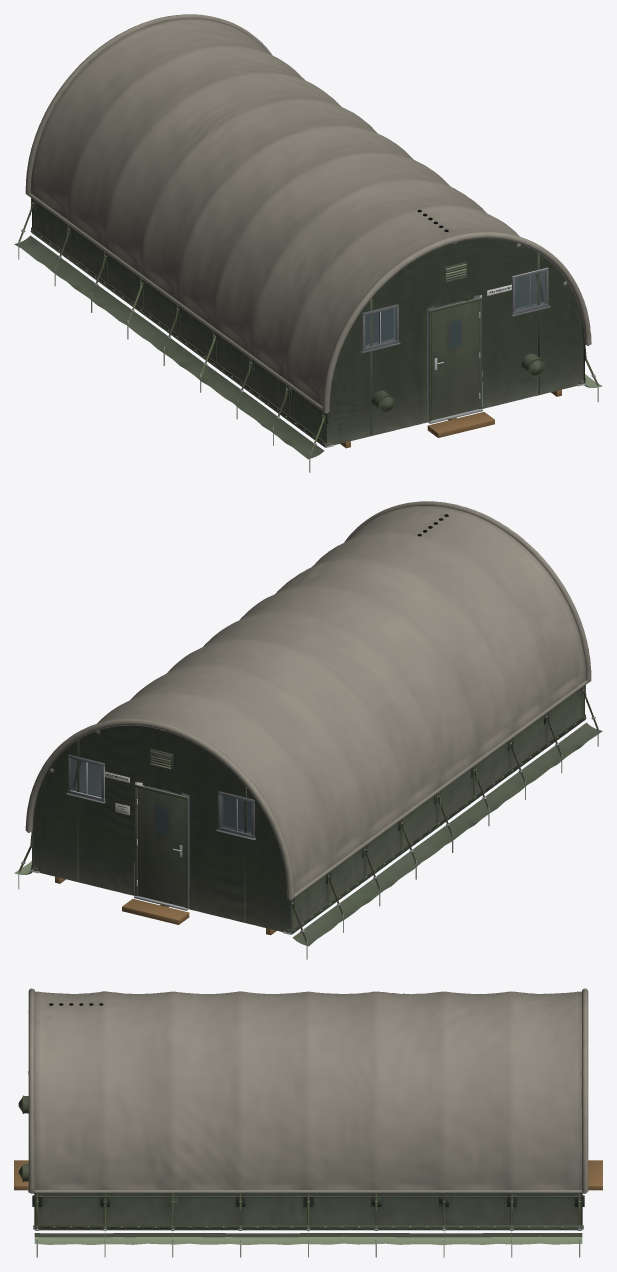
Rendered from series4-ar.glb.
3 renders of one model, top to bottom at view 1: azimuth 30°, elevation 25°; view 2: azimuth 150°, elevation 25°; view 3: azimuth 270°, elevation 25°, orthographic. The views are drawn at different scales.
Visible parts, largest first — view 1: SERIES4_thermal_cap, SERIES4_shelter, SERIES4_floor; view 2: SERIES4_thermal_cap, SERIES4_shelter, SERIES4_floor; view 3: SERIES4_thermal_cap, SERIES4_shelter, SERIES4_floor.
Boxes of the visible parts, x1,y1,x2,y2 form: SERIES4_thermal_cap: [25, 14, 591, 428]; SERIES4_shelter: [14, 198, 602, 472]; SERIES4_floor: [340, 300, 561, 448]; SERIES4_thermal_cap: [25, 501, 591, 915]; SERIES4_shelter: [14, 685, 602, 959]; SERIES4_floor: [55, 787, 276, 935]; SERIES4_thermal_cap: [28, 988, 588, 1210]; SERIES4_shelter: [18, 1095, 584, 1257]; SERIES4_floor: [14, 1160, 602, 1190].
Size of the model in its own units: 5.71 by 3.77 by 10.59.
23 materials, 11 textured.
